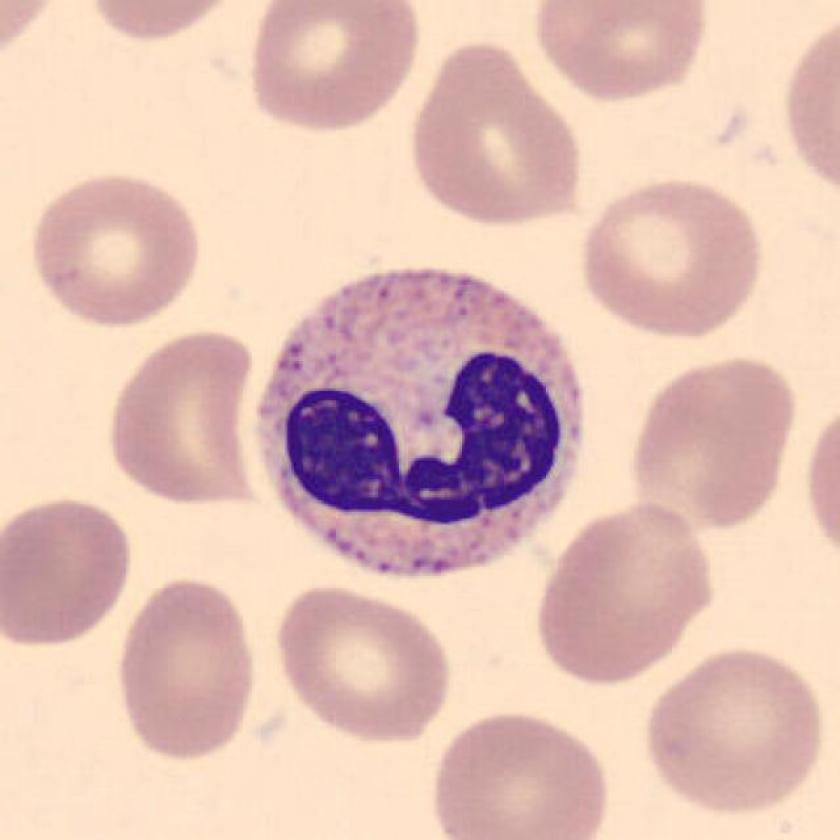neutrophil: (258, 272, 584, 575)
